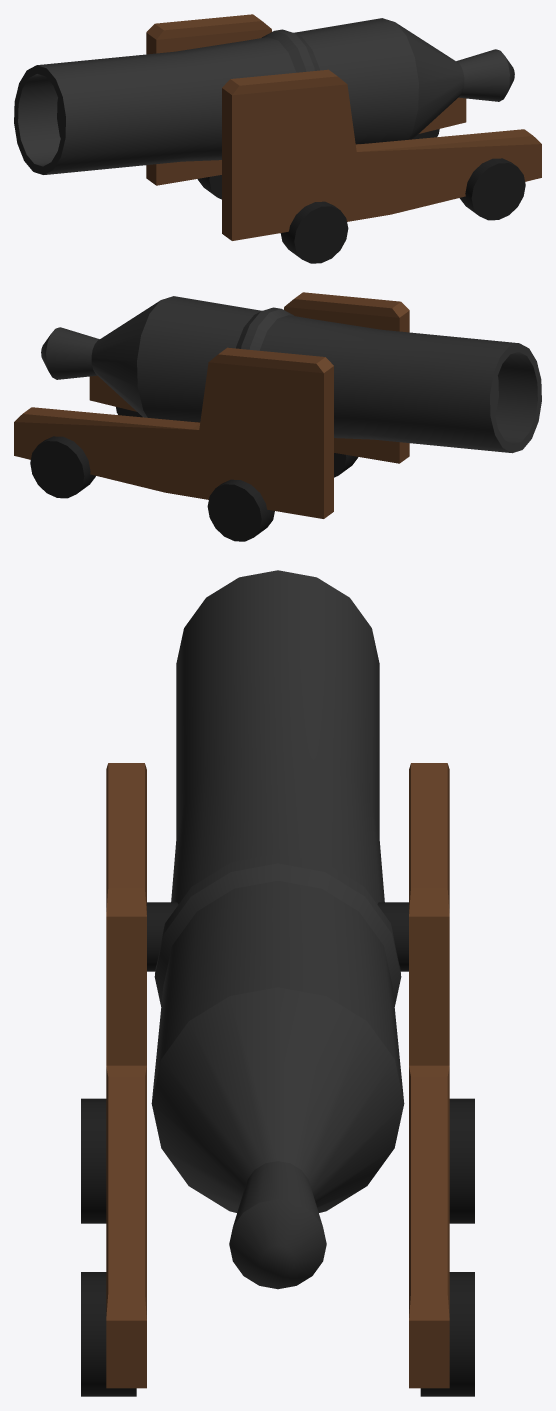
Rendered from Cannon.glb.
The picture shows the model from 3 angles, top to bottom: view 1: azimuth 30°, elevation 25°; view 2: azimuth 150°, elevation 25°; view 3: azimuth 270°, elevation 25°; orthographic projection. The views are drawn at different scales.
Visible parts, largest first — view 1: Cylinder.011; view 2: Cylinder.011; view 3: Cylinder.011.
Part boxes in pixels (<box>): Cylinder.011: <box>14,14,541,263</box>; Cylinder.011: <box>14,292,541,541</box>; Cylinder.011: <box>81,570,474,1396</box>.
Bounding box in the file's own units: 6.01 × 2.57 × 2.14.
